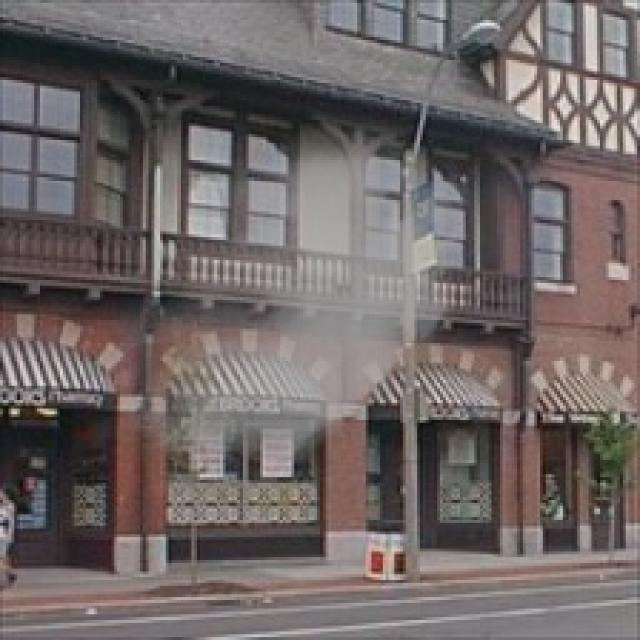Smoke: (71, 106, 483, 514)
